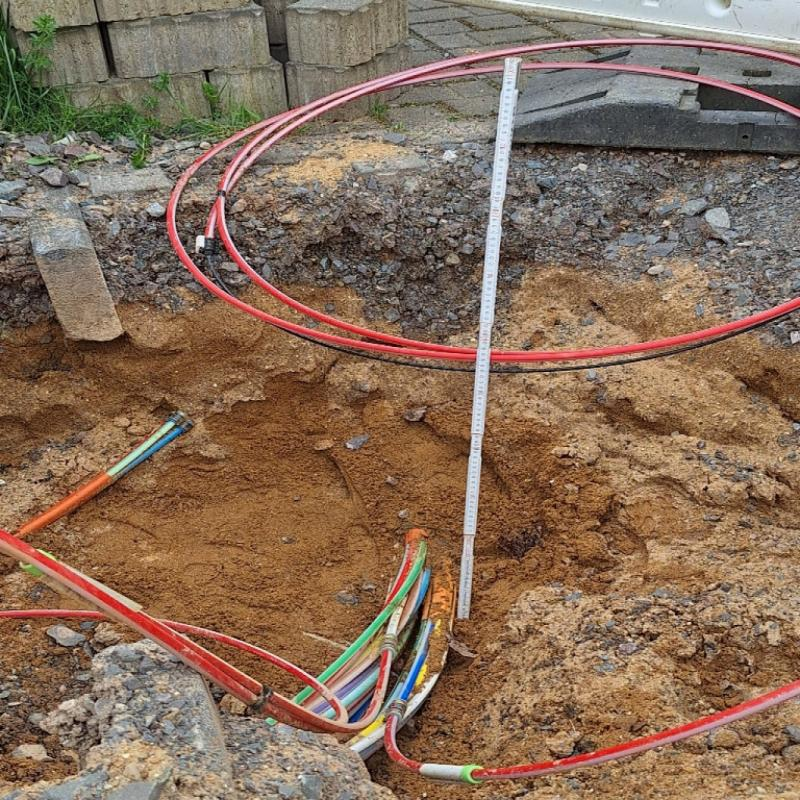Orang-Speednetrohrchen: (18, 409, 197, 537), (328, 530, 454, 694)
